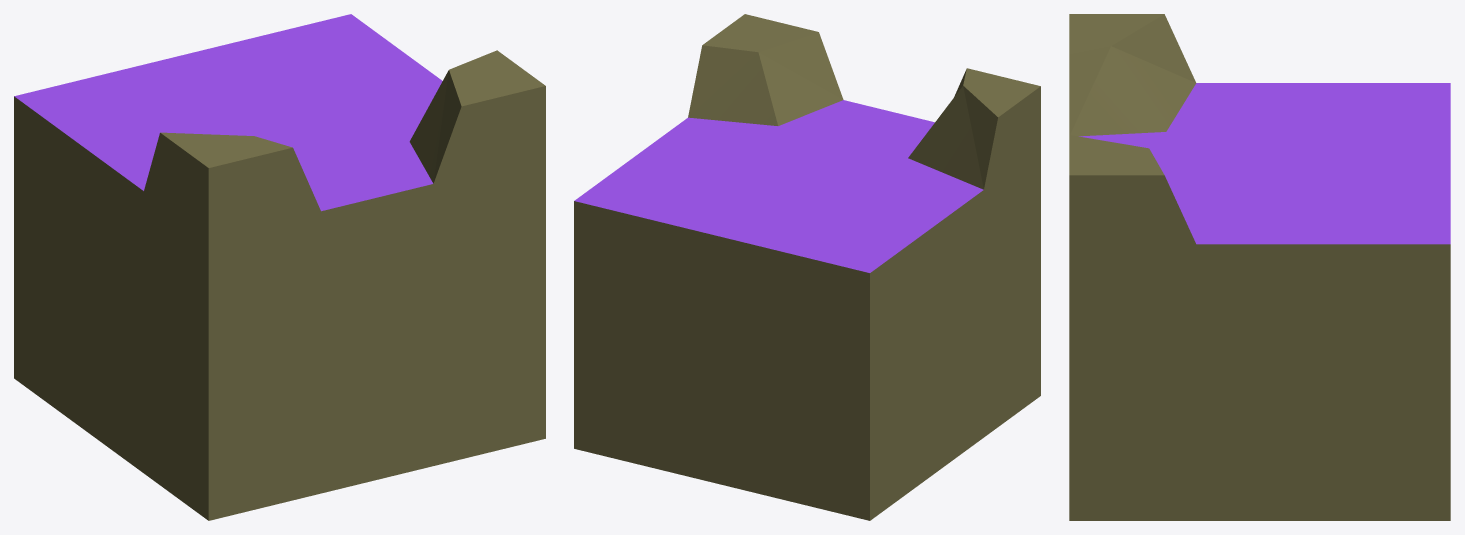
File: tile_toxic_deep2_6bx_01.fbx
The picture shows the model from 3 angles, left to right: view 1: azimuth 30°, elevation 25°; view 2: azimuth 150°, elevation 25°; view 3: azimuth 270°, elevation 25°; orthographic projection. The views are drawn at different scales.
Parts seen in each view (by area): view 1: tile_toxic_deep2_6bx_01; view 2: tile_toxic_deep2_6bx_01; view 3: tile_toxic_deep2_6bx_01.
Boxes of the visible parts, left/top/right/bottom form: tile_toxic_deep2_6bx_01: left=14, top=14, right=545, bottom=520; tile_toxic_deep2_6bx_01: left=574, top=14, right=1040, bottom=520; tile_toxic_deep2_6bx_01: left=1069, top=14, right=1450, bottom=520.
Size of the model in its own units: 100 by 100 by 100.
